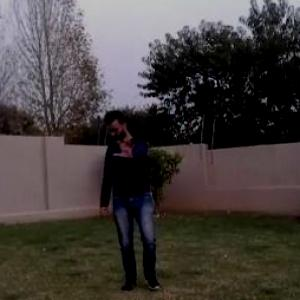follow_hand: (110, 133, 140, 162)
